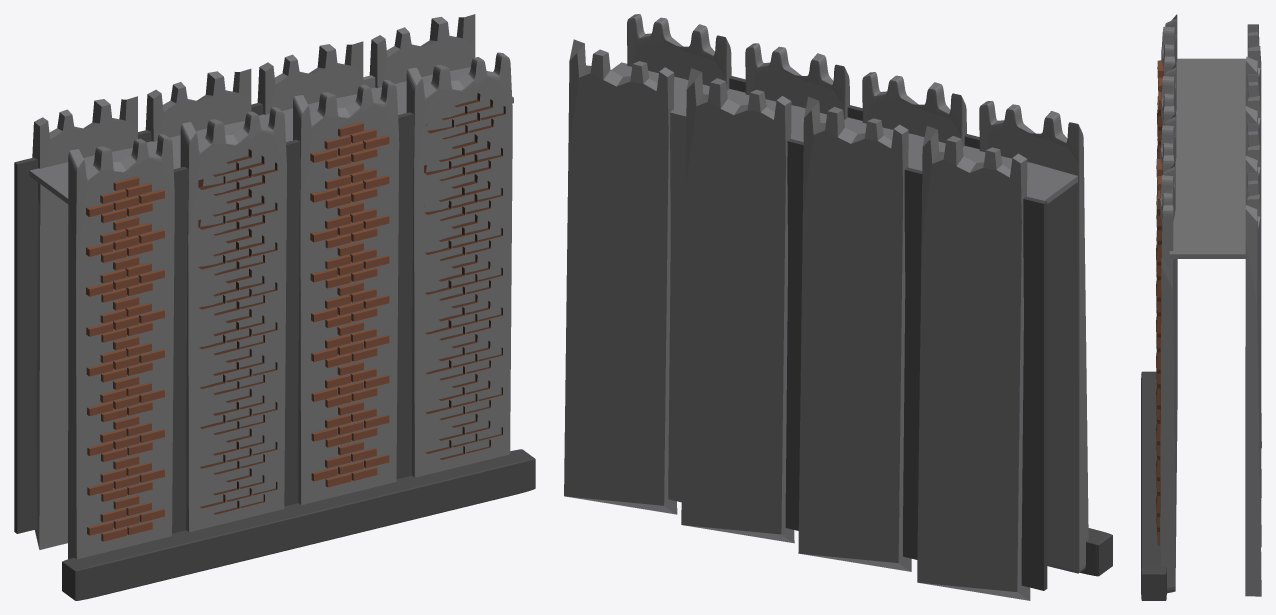
The model's file is wall segment -2.fbx.
3 views of the same model, side by side, from view 1: azimuth 30°, elevation 25°; view 2: azimuth 150°, elevation 25°; view 3: azimuth 270°, elevation 25° (orthographic). The views are drawn at different scales.
Parts seen in each view (by area): view 1: Cube.074; view 2: Cube.074; view 3: Cube.074.
Part boxes in pixels (x1,y1,x2,y2): Cube.074: (14, 14, 535, 600); Cube.074: (564, 14, 1112, 600); Cube.074: (1141, 14, 1261, 600).
Size of the model in its own units: 1348 by 1219 by 340.
